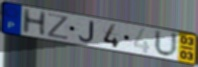4: (132, 27, 152, 55), (102, 23, 121, 49)
H: (21, 7, 48, 37)
J: (77, 20, 95, 43)
U: (153, 28, 180, 59)
Z: (46, 12, 71, 41)
